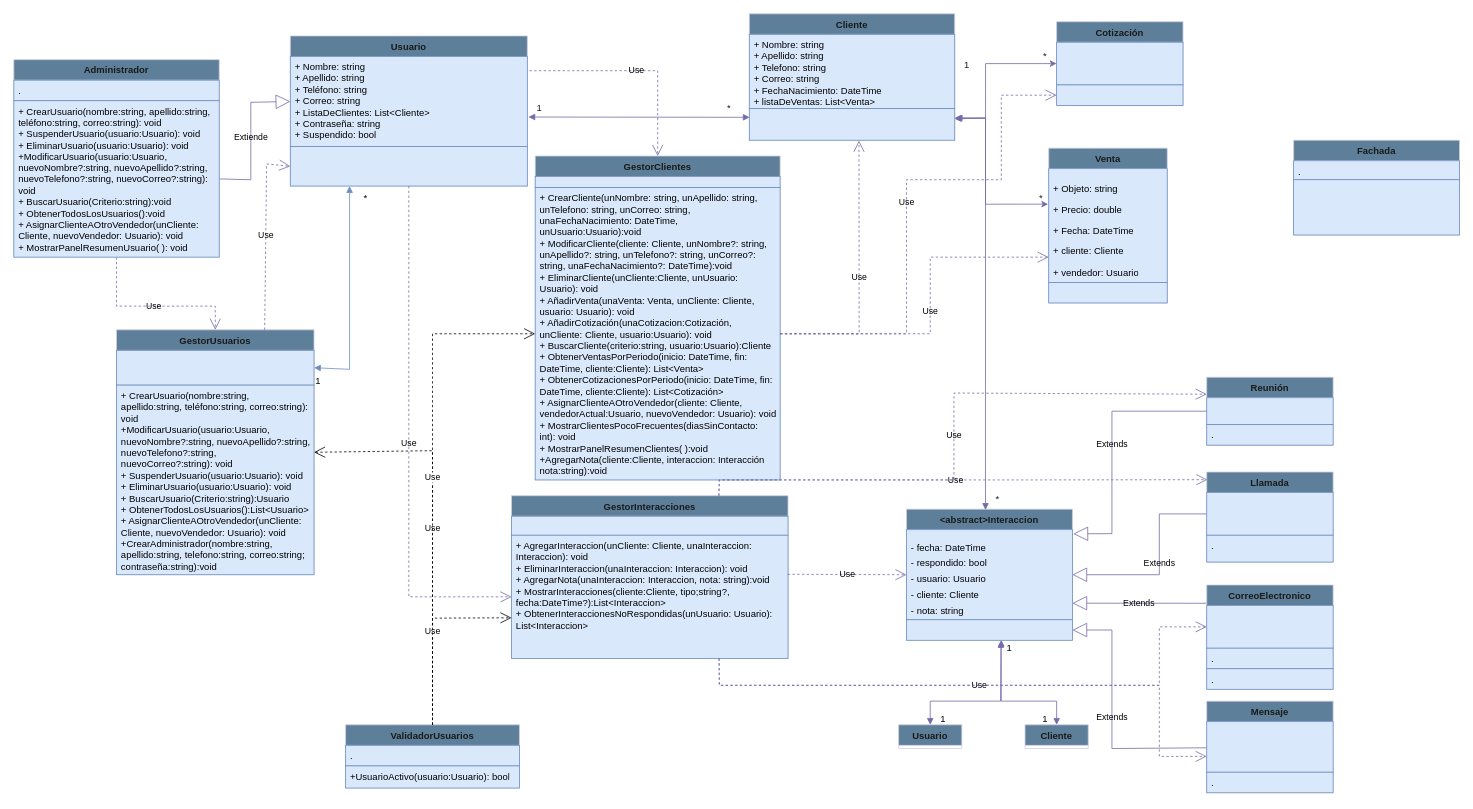
The diagram is 1473 pixels wide and 809 high, and some of its shapes have lost their labels. The centre of each missing label's shape, as x and y in pixels:
+ AñadirVenta(venta:Venta):void + AñadirCotizacion(cotizacion:Cotizacion):void: point (852, 124)
+ direccionEmisor: string + direccionReceptor: string + Contenido: string: point (1269, 626)
+ Inicio( ):void + RegistroCuenta( ):void + IngresoCuenta( ):void: point (1376, 207)
+ lugar: string: point (1269, 411)
+ MarcarComoRespondido( ): void: point (989, 629)
+ MostrarCotización(): void: point (1119, 94)
+ MostrarPanelUsuario( ): void + Suspender():void +Rehabilidar():void: point (408, 166)
+ MostrarVenta(): void: point (1107, 292)
+ numeroReceptor: string + numeroEmisor: string: point (1269, 513)
+ numeroReceptor: string + numeroEmisor: string + Contenido: string: point (1269, 746)
+ Precio: double + fecha: DateTime + Motivo: string: point (1119, 63)
- listaUsuarios: List<Usuario> - listaAdministradores: List<Administrador>: point (215, 367)
